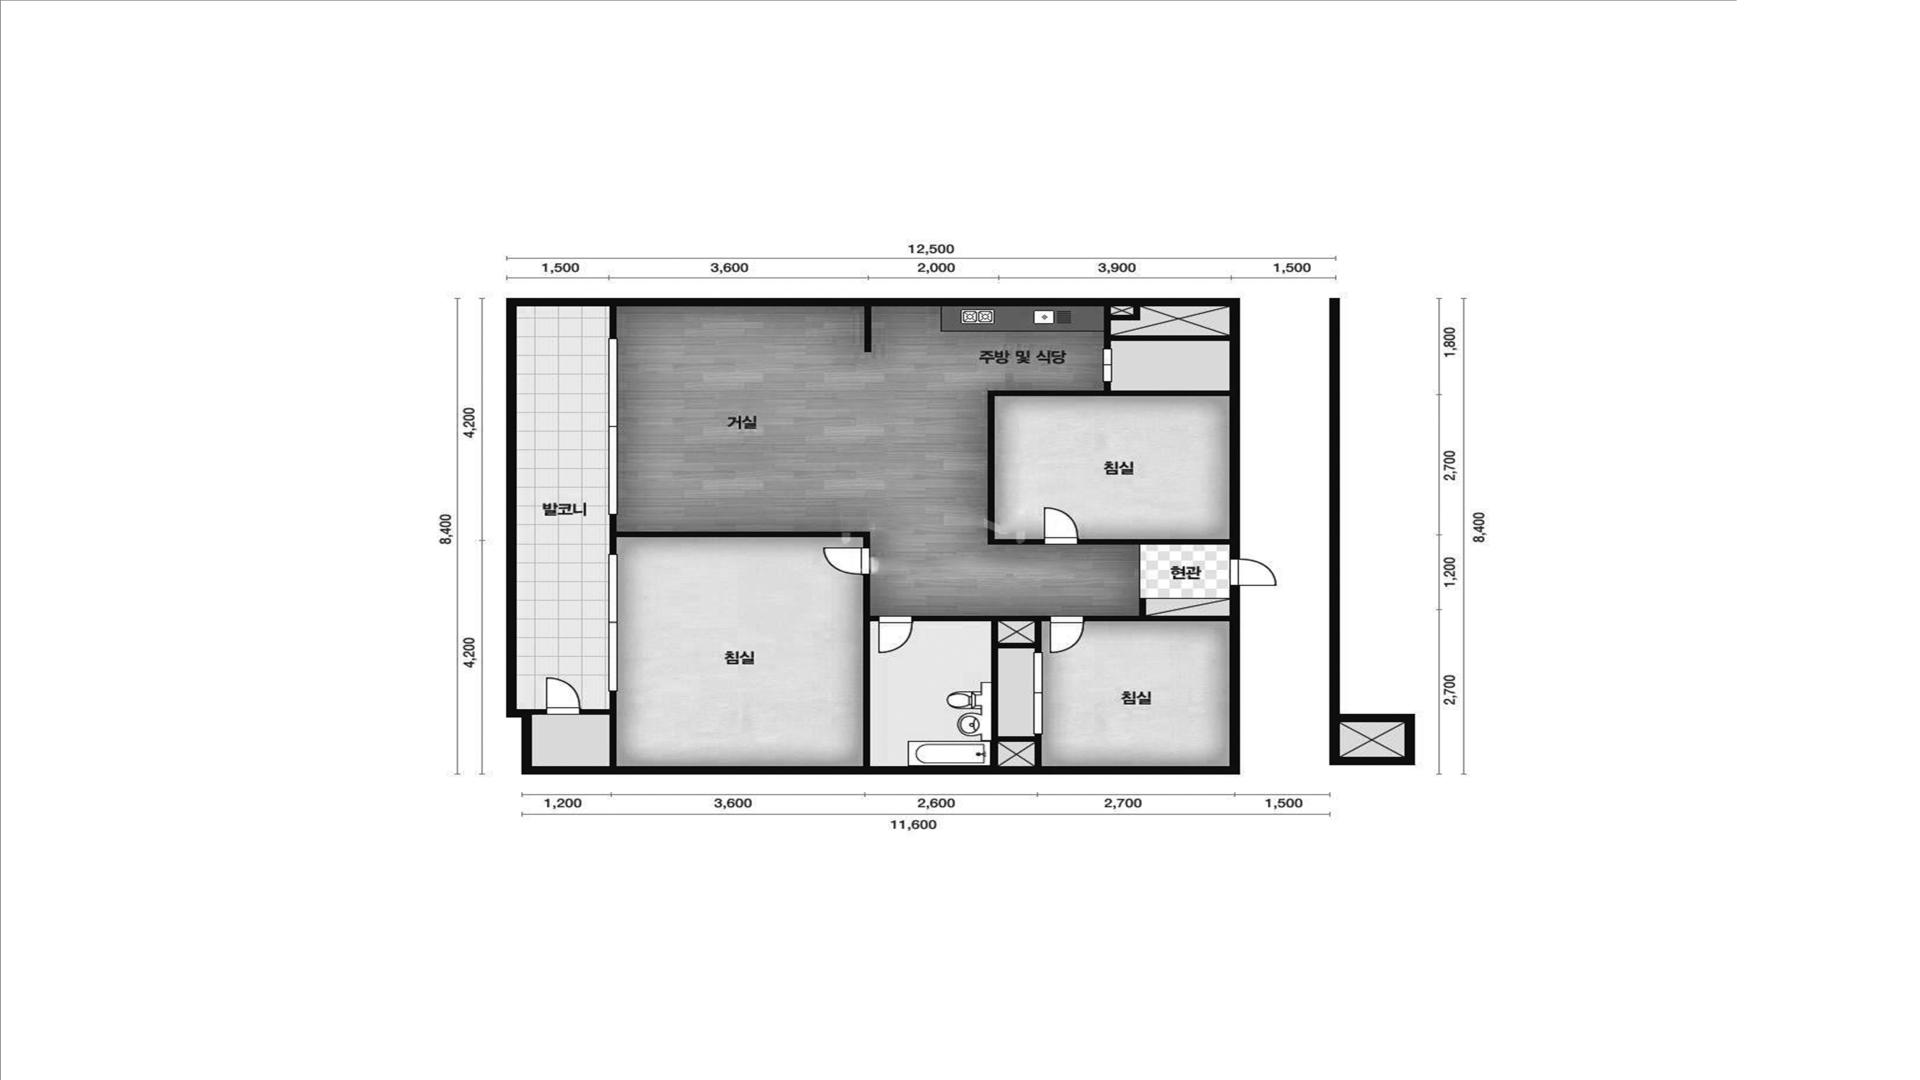door: (823, 547, 870, 575), (1050, 616, 1084, 653), (1230, 559, 1276, 585), (547, 678, 580, 715), (1044, 508, 1077, 545), (878, 616, 911, 653), (1104, 348, 1110, 381)
wall: (506, 298, 1240, 774), (1329, 298, 1415, 766), (988, 381, 1229, 545), (911, 616, 1051, 766), (609, 514, 870, 555), (1104, 306, 1229, 348), (1084, 597, 1229, 621), (580, 691, 617, 766), (864, 575, 878, 766), (1340, 717, 1404, 757), (998, 621, 1035, 644), (1077, 539, 1229, 545), (864, 306, 872, 352), (609, 306, 617, 339), (531, 709, 547, 715)
window: (609, 339, 617, 514), (609, 555, 617, 691), (1034, 653, 1042, 735)
